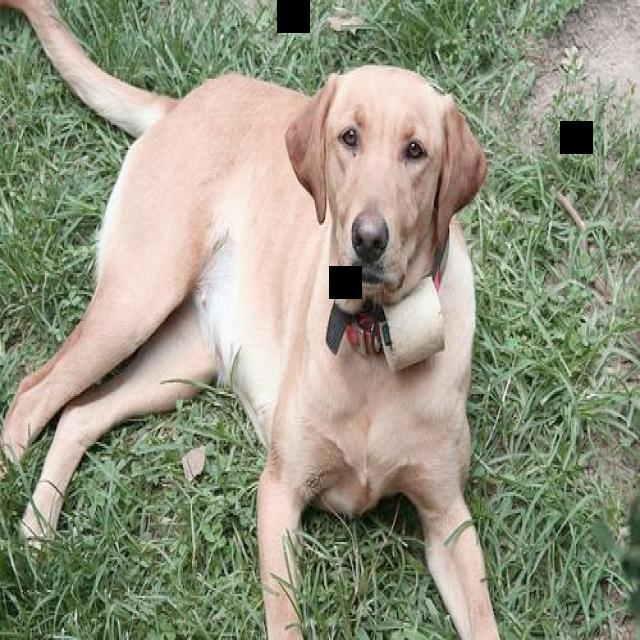adult_dog: (0, 1, 505, 640)
